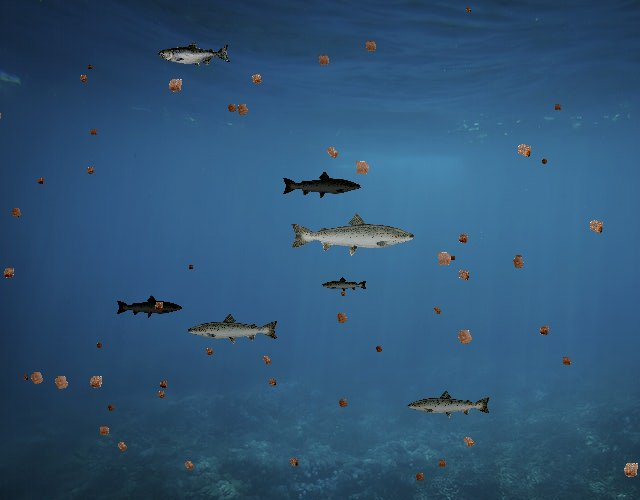Fish: (288, 211, 417, 257), (187, 313, 281, 347), (406, 389, 492, 420), (281, 170, 362, 199), (158, 42, 231, 68), (115, 295, 183, 319), (321, 276, 368, 293)
Pellet: (161, 71, 189, 99), (616, 454, 640, 484), (320, 140, 344, 164), (230, 97, 254, 121), (245, 68, 268, 91), (6, 203, 27, 224), (82, 162, 98, 178), (538, 155, 551, 168), (19, 371, 31, 383)
